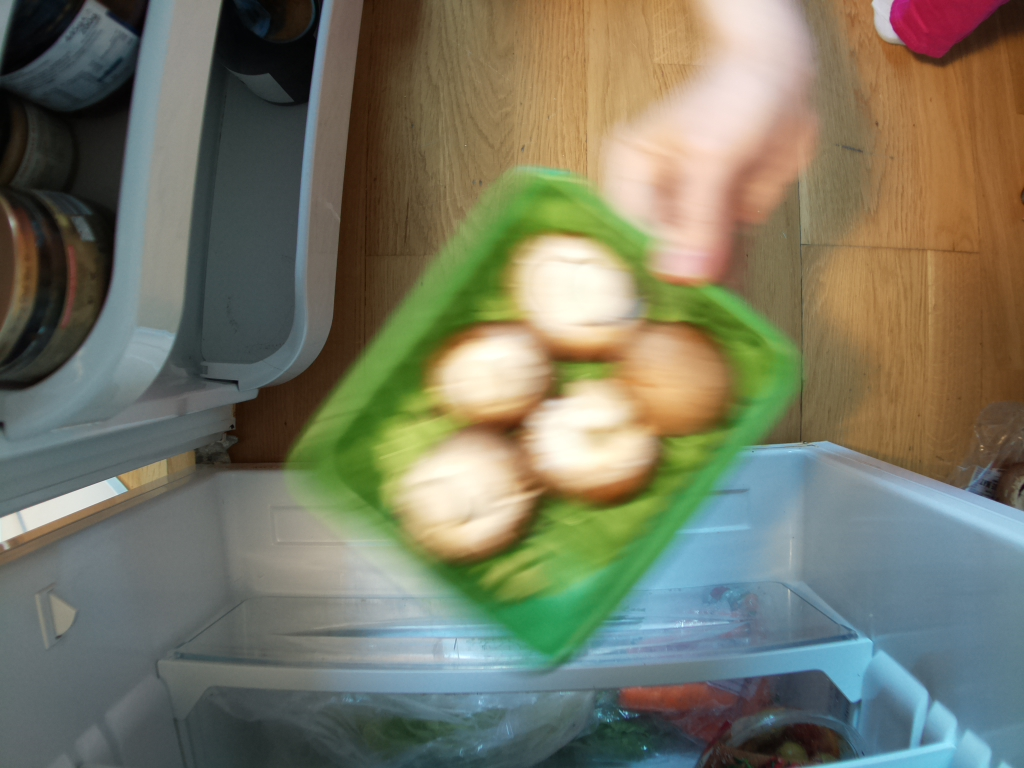mushrooms: (287, 176, 797, 670)
